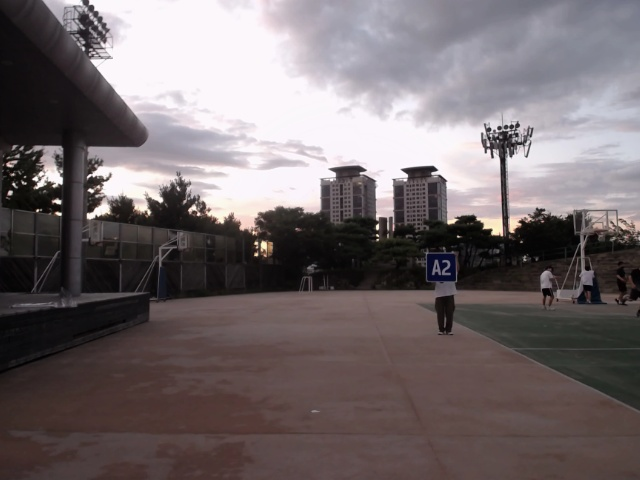delivery_a2: (426, 253, 457, 282)
